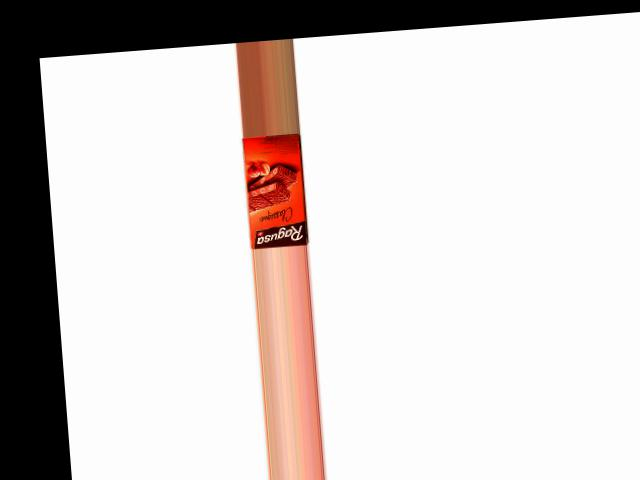chocolate: (235, 132, 311, 248)
